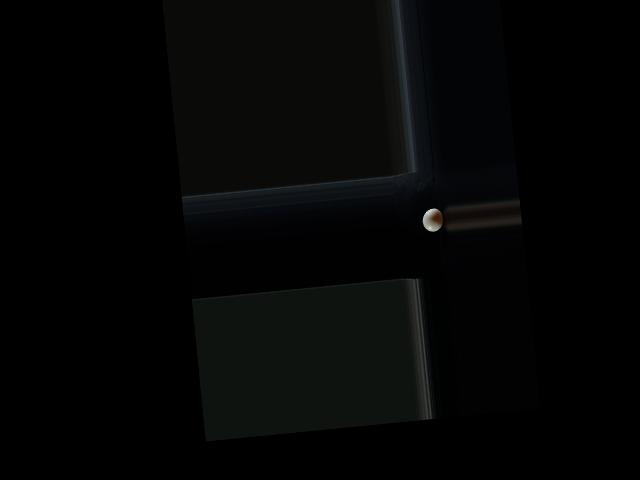egg: (421, 207, 444, 232)
